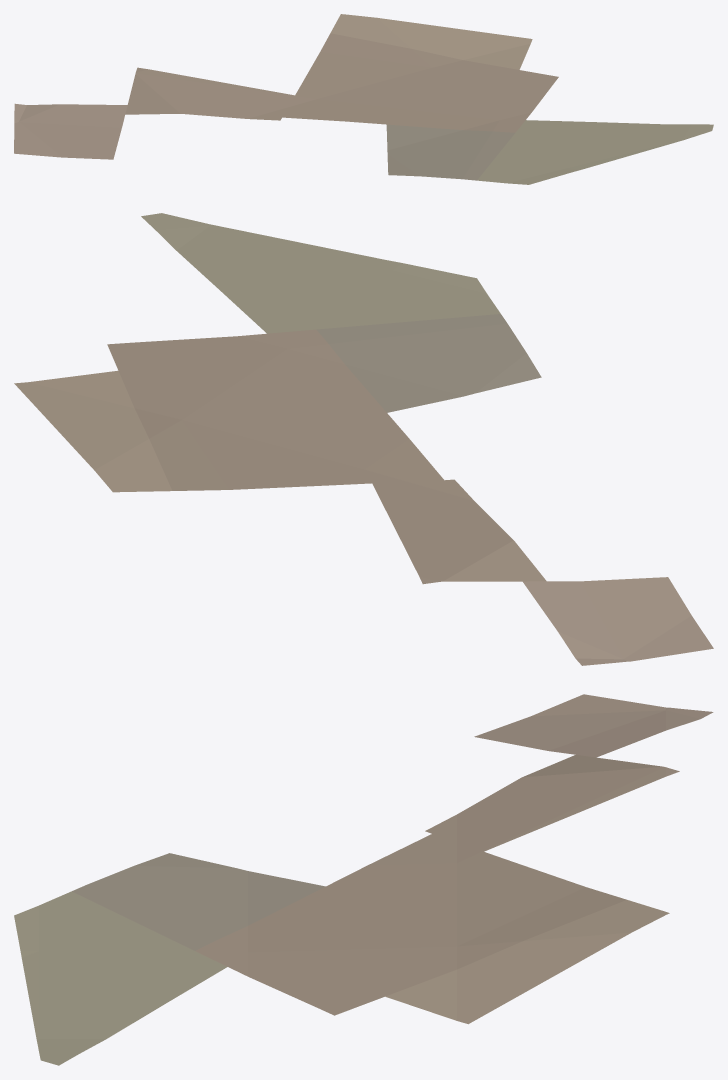
The model's file is farm_-3_13_soil.glb.
The picture shows the model from 3 angles, top to bottom: view 1: azimuth 30°, elevation 25°; view 2: azimuth 150°, elevation 25°; view 3: azimuth 270°, elevation 25°; orthographic projection. The views are drawn at different scales.
Visible parts, largest first — view 1: geometry_0; view 2: geometry_0; view 3: geometry_0.
Boxes of the visible parts, x1=… form: geometry_0: x1=14, y1=14, x2=713, y2=184; geometry_0: x1=14, y1=213, x2=713, y2=665; geometry_0: x1=14, y1=694, x2=713, y2=1065.
Bounding box in the file's own units: 368 × 21.8 × 268.
